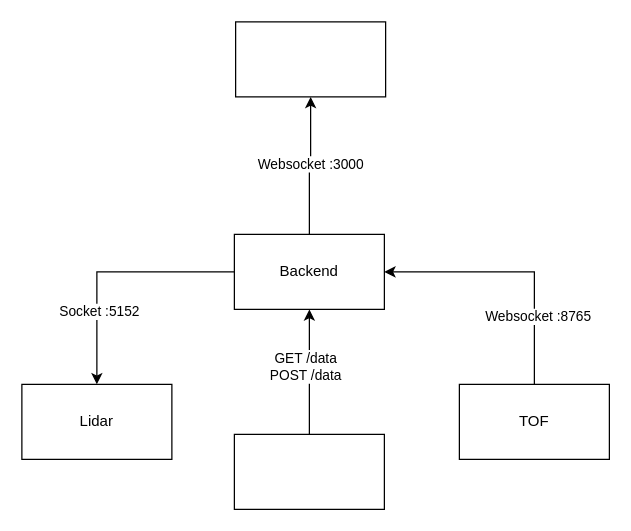
The diagram is 631 pixels wide and 531 high, and some of its shapes have lost their labels. The shapes that lost their labels are listed below. From the top down, each one's centre as x and y in pixels, then its label:
point (310, 59): Client :5000
point (308, 471): Theresis
